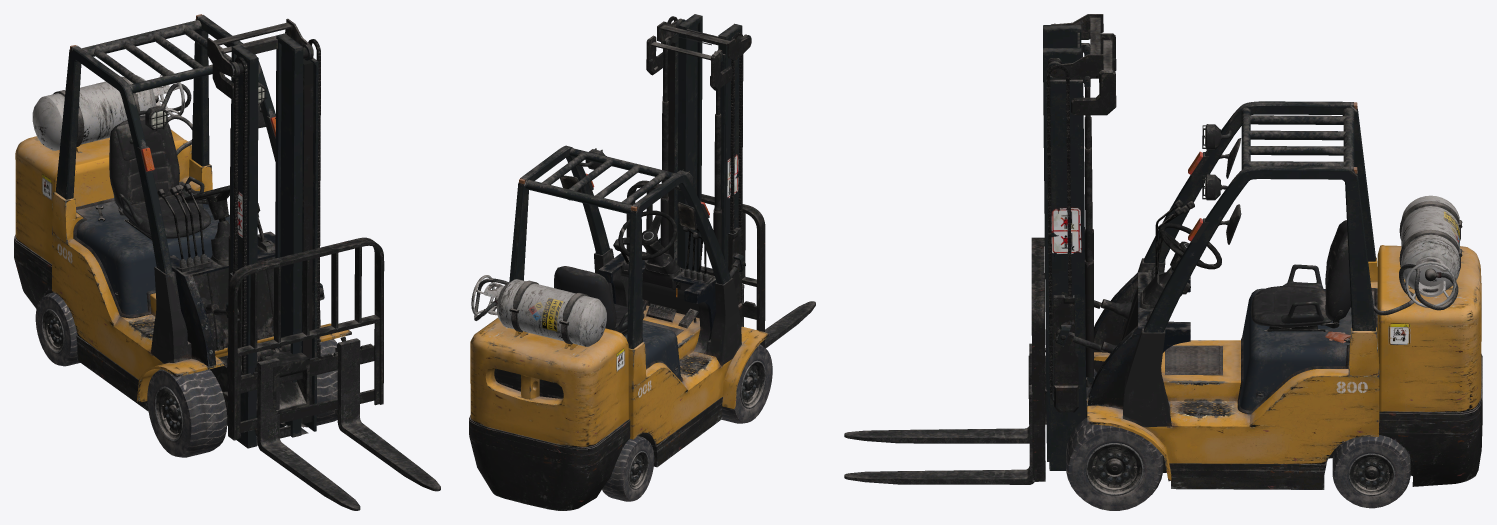
File: forklift-wheels.glb
3 views of the same model, side by side, from view 1: azimuth 30°, elevation 25°; view 2: azimuth 150°, elevation 25°; view 3: azimuth 270°, elevation 25° (orthographic). The views are drawn at different scales.
Visible parts, largest first — view 1: ForkliftBodyTrim, ForkliftMastInner, ForkliftCarriageForks, ForkliftMastOuter, Wheel_FL, ForkliftWheelPairFront, ForkliftBody, Wheel_RL, Wheel_FR, ForkliftTank; view 2: ForkliftBodyTrim, ForkliftMastOuter, ForkliftCarriageForks, ForkliftWheelPairFront, ForkliftMastInner, ForkliftBody, Wheel_RL, Wheel_FL, ForkliftWheelPairRear; view 3: ForkliftBodyTrim, ForkliftMastOuter, ForkliftMastInner, Wheel_FR, ForkliftWheelPairFront, Wheel_RR, ForkliftCarriageForks, ForkliftBody, ForkliftWheelPairRear, ForkliftTank.
Boxes of the visible parts, left/top/right/bottom form: ForkliftBodyTrim: left=14, top=16, right=351, bottom=411; ForkliftMastInner: left=228, top=237, right=440, bottom=510; ForkliftCarriageForks: left=207, top=18, right=313, bottom=448; ForkliftMastOuter: left=212, top=29, right=324, bottom=445; Wheel_FL: left=147, top=369, right=227, bottom=457; ForkliftWheelPairFront: left=32, top=70, right=184, bottom=150; ForkliftBody: left=69, top=14, right=265, bottom=417; Wheel_RL: left=35, top=292, right=80, bottom=366; Wheel_FR: left=304, top=339, right=337, bottom=427; ForkliftTank: left=161, top=83, right=192, bottom=155; ForkliftBodyTrim: left=469, top=145, right=769, bottom=510; ForkliftMastOuter: left=646, top=16, right=745, bottom=324; ForkliftCarriageForks: left=657, top=14, right=751, bottom=271; ForkliftWheelPairFront: left=471, top=275, right=606, bottom=346; ForkliftMastInner: left=626, top=180, right=815, bottom=348; ForkliftBody: left=518, top=177, right=709, bottom=335; Wheel_RL: left=602, top=436, right=654, bottom=501; Wheel_FL: left=721, top=344, right=772, bottom=423; ForkliftWheelPairRear: left=509, top=280, right=588, bottom=349; ForkliftBodyTrim: left=1087, top=101, right=1482, bottom=489; ForkliftMastOuter: left=1028, top=33, right=1116, bottom=470; ForkliftMastInner: left=844, top=237, right=1047, bottom=484; Wheel_FR: left=1066, top=417, right=1163, bottom=510; ForkliftWheelPairFront: left=1401, top=195, right=1459, bottom=307; Wheel_RR: left=1332, top=435, right=1410, bottom=508; ForkliftCarriageForks: left=1043, top=14, right=1103, bottom=461; ForkliftBody: left=1086, top=102, right=1413, bottom=475; ForkliftWheelPairRear: left=1399, top=201, right=1462, bottom=289; ForkliftTank: left=1373, top=264, right=1458, bottom=315.
Size of the model in its own units: 1.2 by 2.61 by 3.48.
3 materials, 3 textured.
